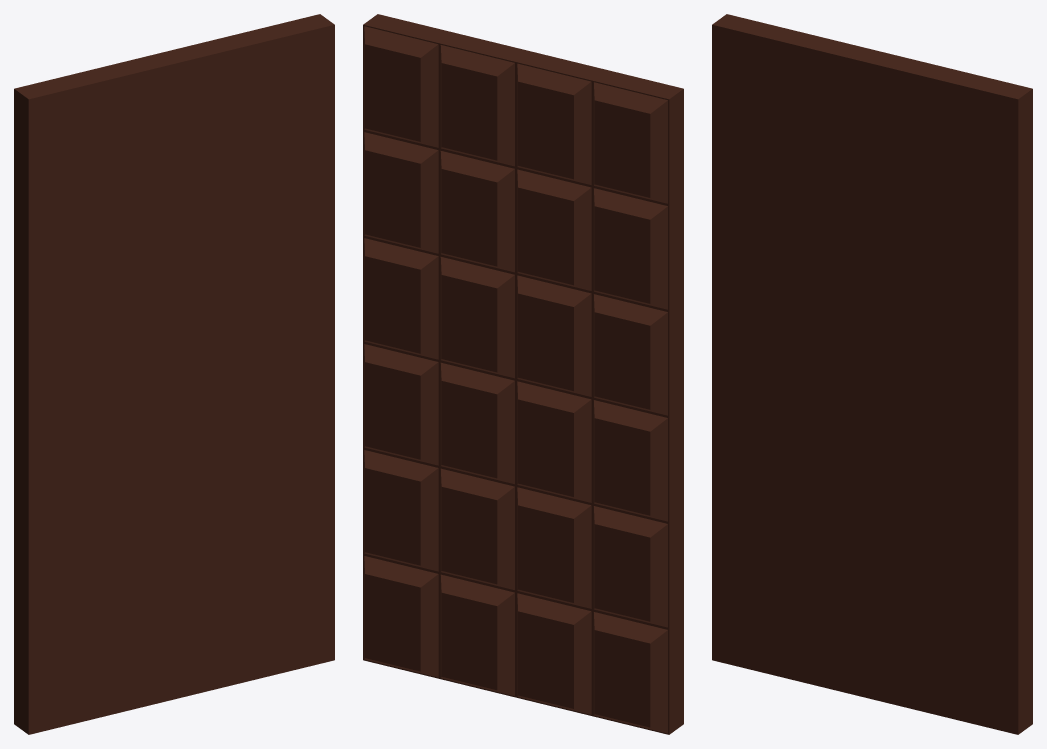
The model's file is simready-food_processed_chocolate_j01.glb.
The picture shows the model from 3 angles, left to right: view 1: azimuth 30°, elevation 25°; view 2: azimuth 150°, elevation 25°; view 3: azimuth 330°, elevation 25°; orthographic projection.
Parts seen in each view (by area): view 1: backing; view 2: backing; view 3: backing.
Part boxes in pixels (x1,y1,x2,y2): backing: (14, 14, 334, 734); backing: (363, 14, 683, 734); backing: (712, 14, 1032, 734).
Bounding box in the file's own units: 0.088 × 0.1746 × 0.0115.
